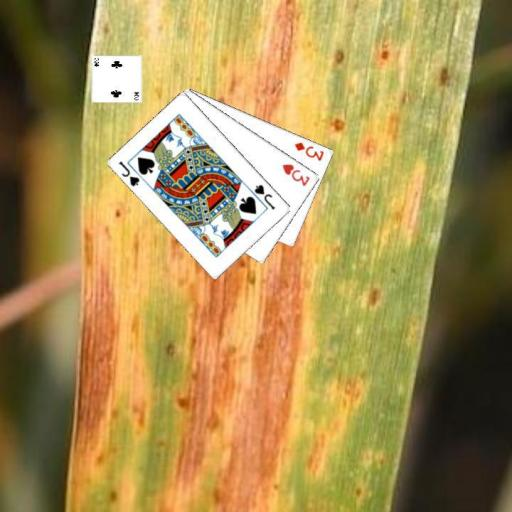3D: (292, 139, 326, 163)
3H: (280, 161, 312, 188)
JS: (251, 182, 277, 212), (116, 158, 141, 188)
